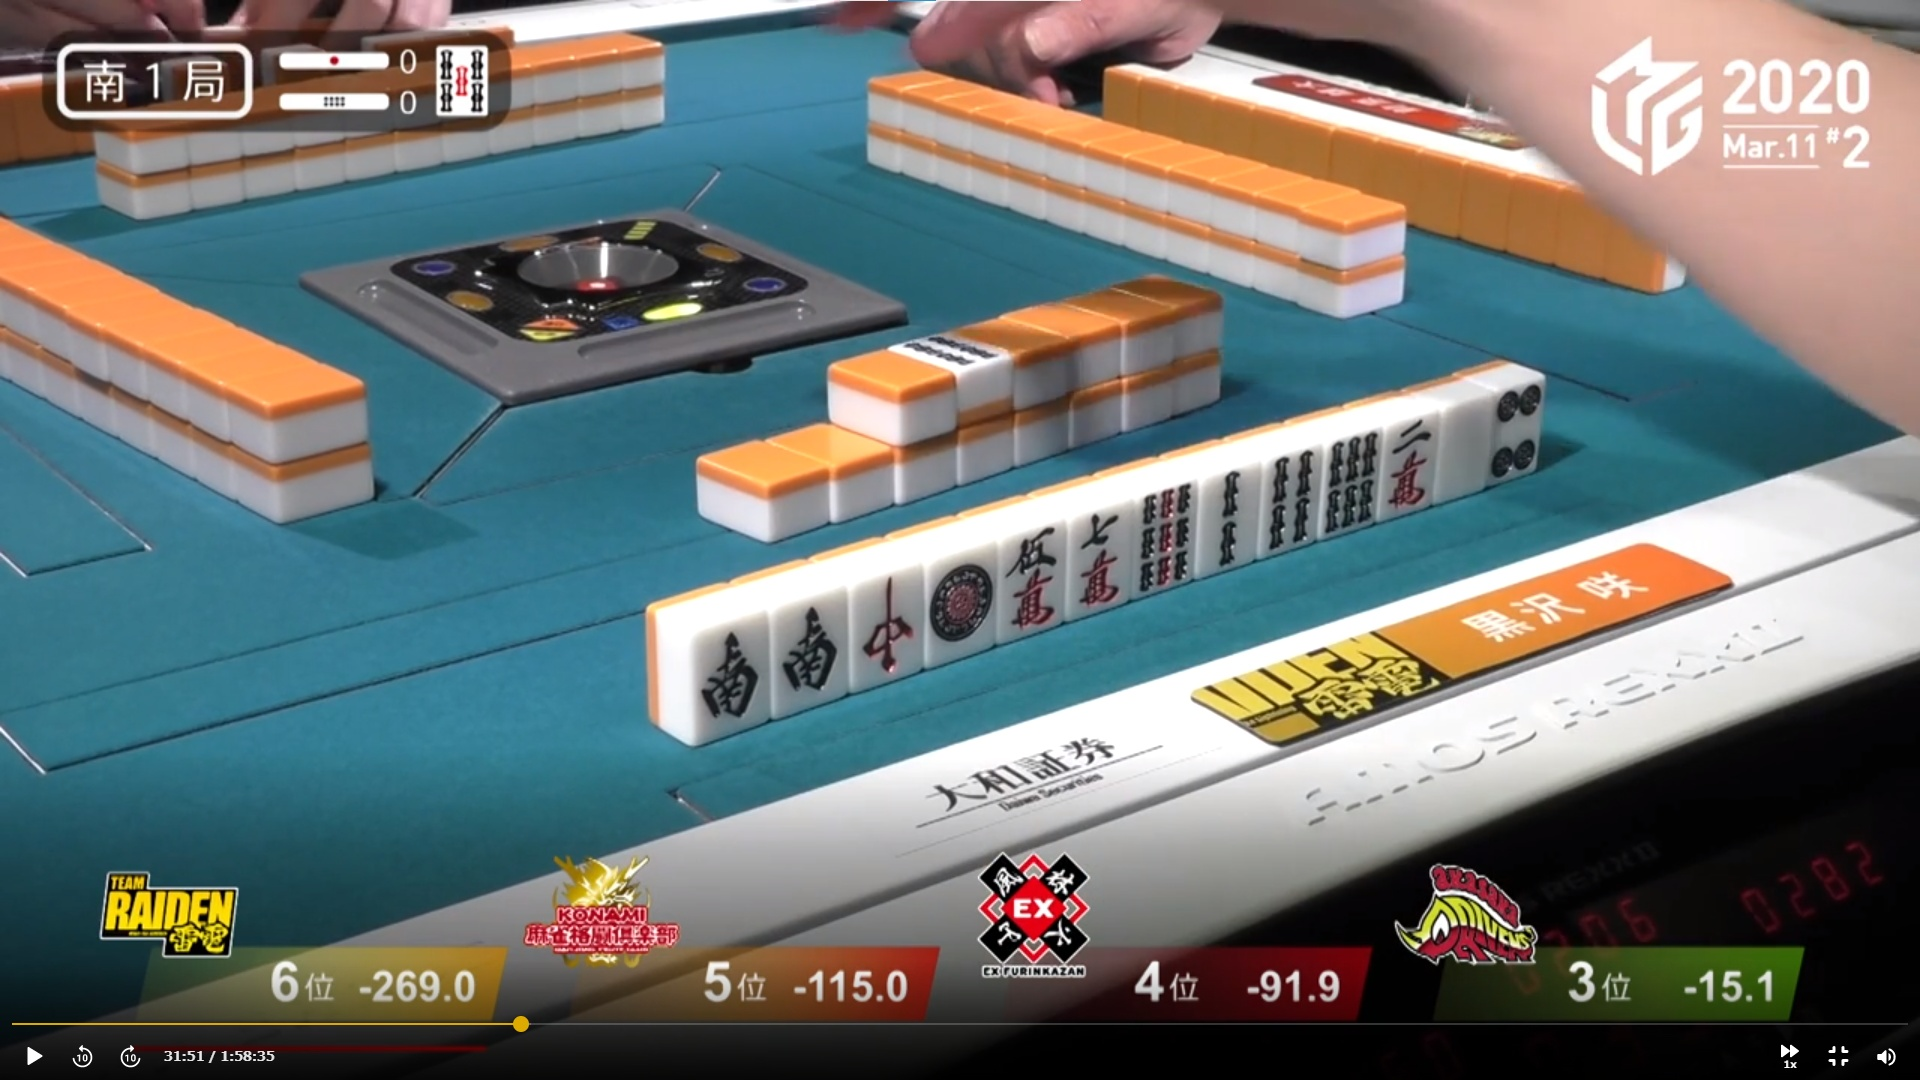1p: (924, 545, 996, 661)
2m: (1378, 405, 1433, 510)
2s: (1195, 458, 1257, 570)
4p: (1486, 378, 1543, 479)
4s: (1262, 444, 1317, 549)
5m: (996, 521, 1059, 641)
6s: (1321, 423, 1375, 530)
7m: (1062, 498, 1125, 620)
9s: (1129, 473, 1193, 595)
chun: (848, 553, 924, 684)
haku: (1428, 377, 1482, 495)
hand_nan_1: (49, 36, 257, 119)
nan: (686, 603, 760, 737), (769, 588, 839, 708)
round_0: (269, 88, 423, 120)
team_raiden: (1187, 625, 1455, 748)
